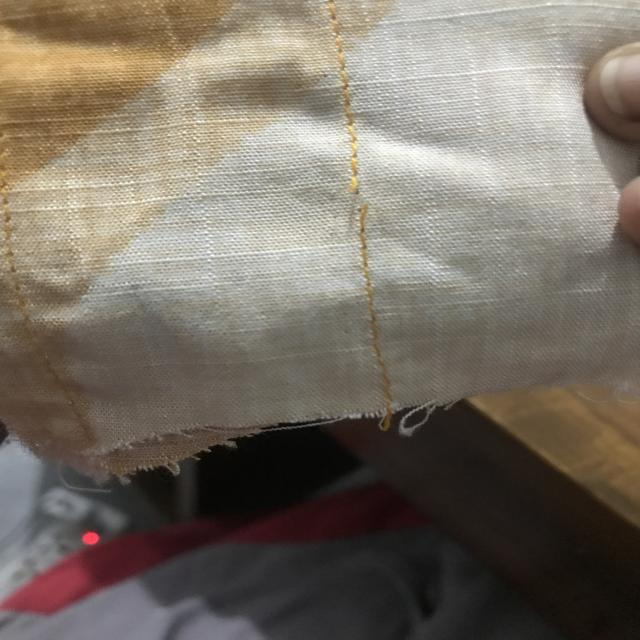broken: (328, 168, 383, 224)
good: (332, 64, 370, 150)
